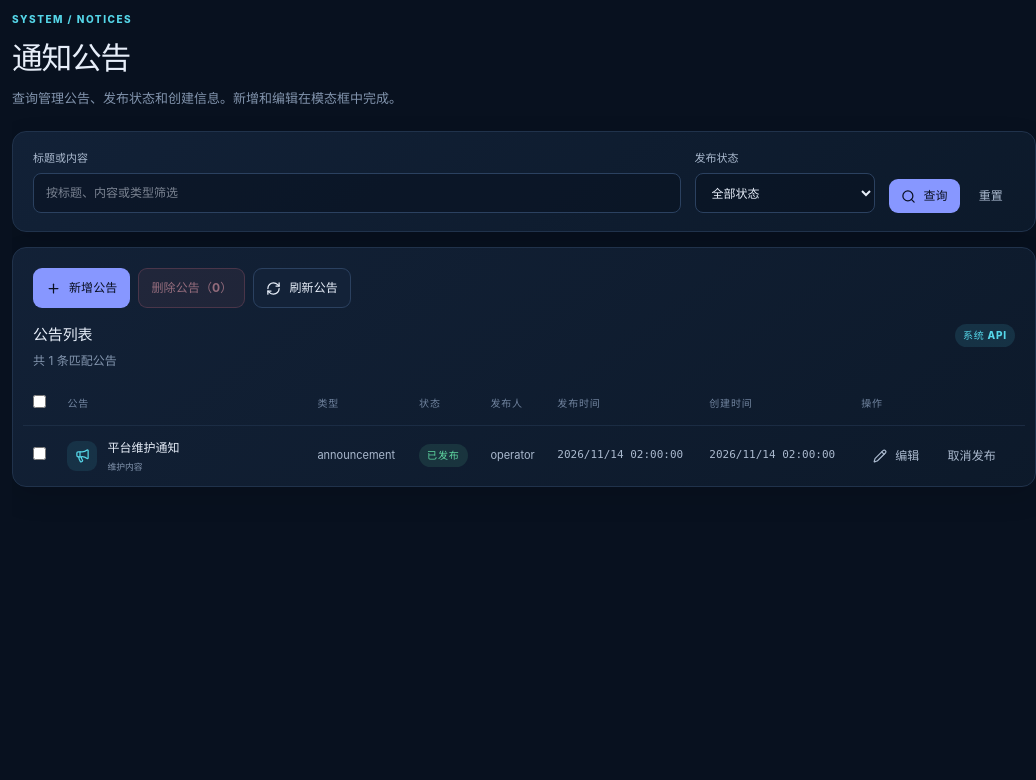
Scenario: NoticesPage › 发布状态更新失败时显示可关闭的错误反馈
The image size is (1036, 780).
Expected: the text "平台维护通知" is shown, x1=107 y1=439 x2=179 y2=457
Step 1. Click the button "取消发布" → (972, 456), box x1=936 y1=439 x2=1008 y2=473
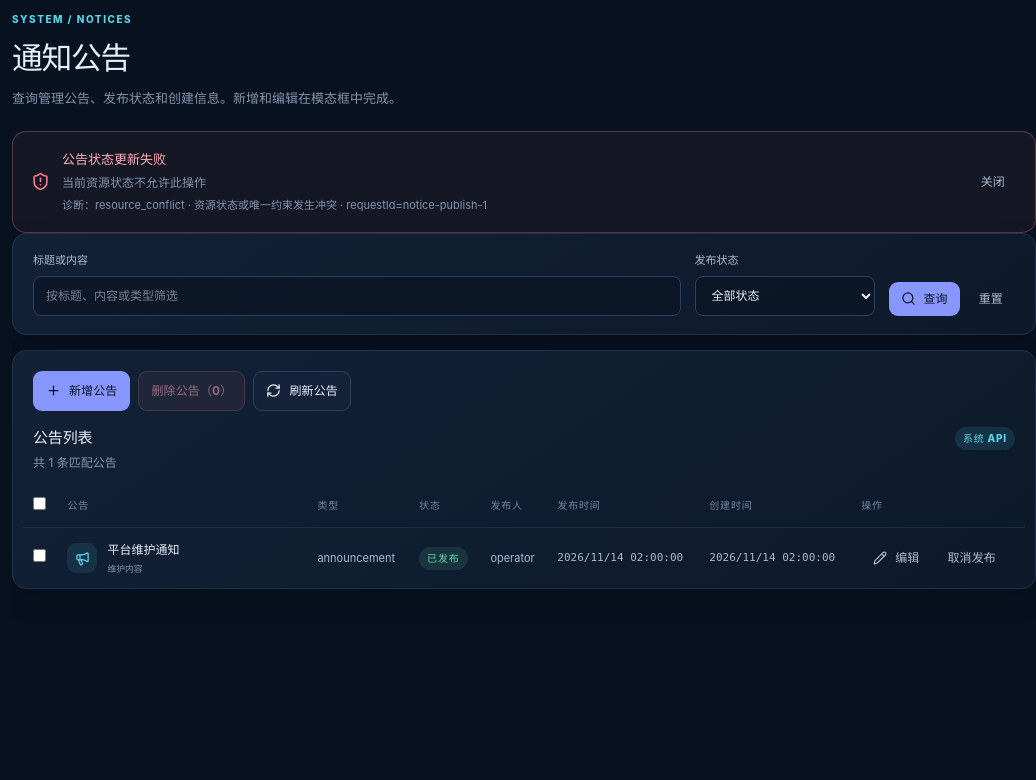
Expected: the message shows "公告状态更新失败", x1=62 y1=151 x2=166 y2=167
Expected: the message shows "当前资源状态不允许此操作", x1=62 y1=175 x2=206 y2=190
Expected: the message shows "resource_conflict", x1=95 y1=198 x2=487 y2=212
Step 2. Click the button "关闭" → (993, 182), box x1=969 y1=165 x2=1017 y2=199
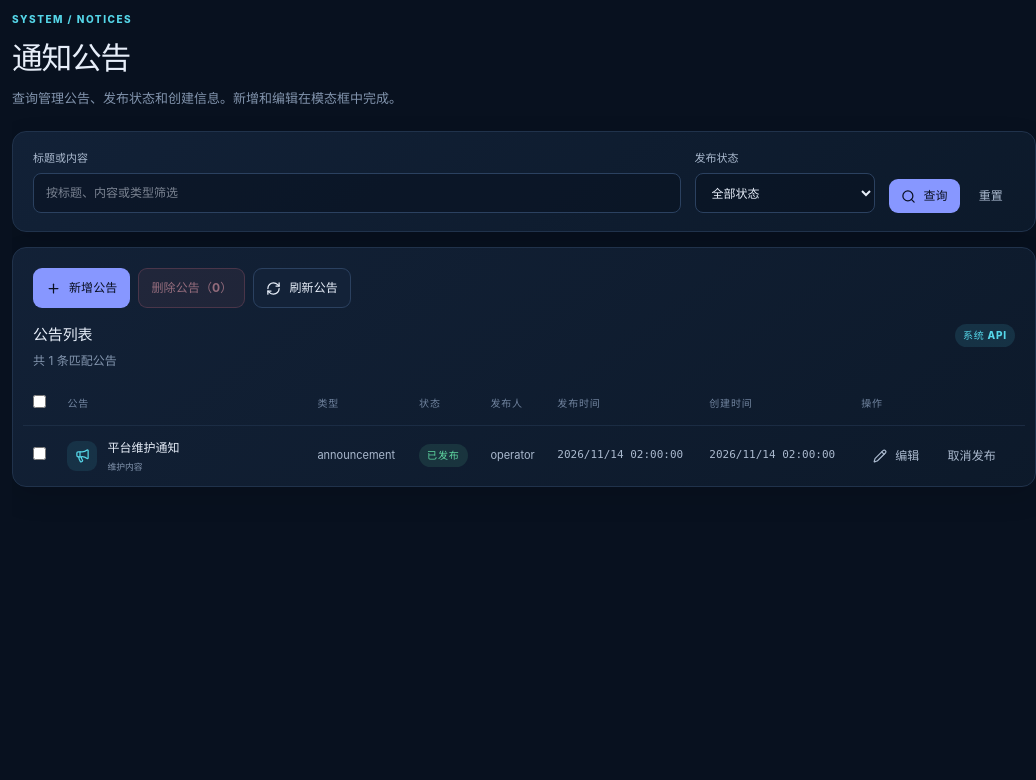
Expected: the text "公告状态更新失败" is gone
